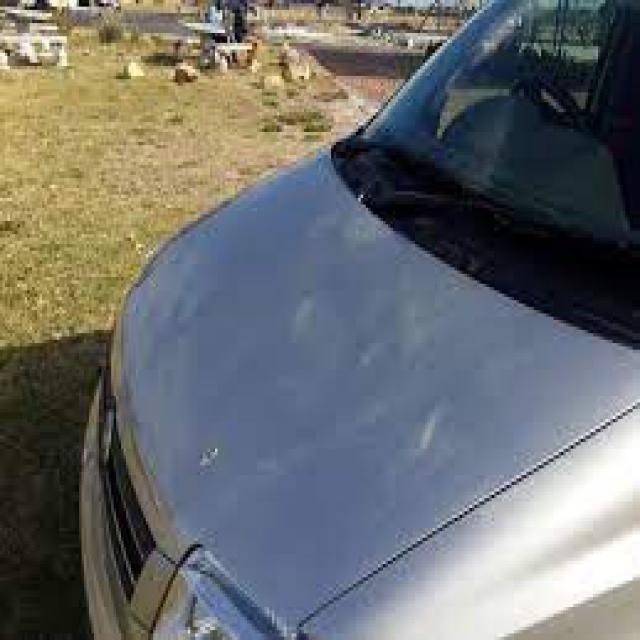bonnet-dent: (128, 201, 534, 587)
